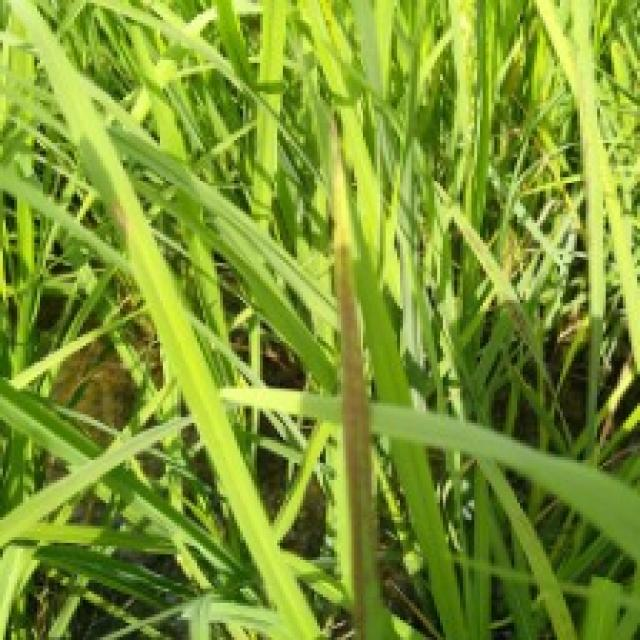Rice___Brown_Spot: (10, 4, 326, 637), (324, 113, 388, 637)
